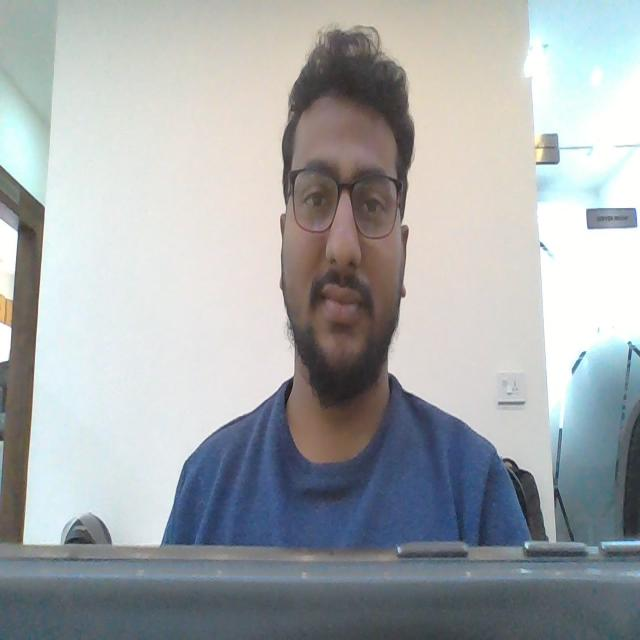phone: (0, 543, 639, 639)
